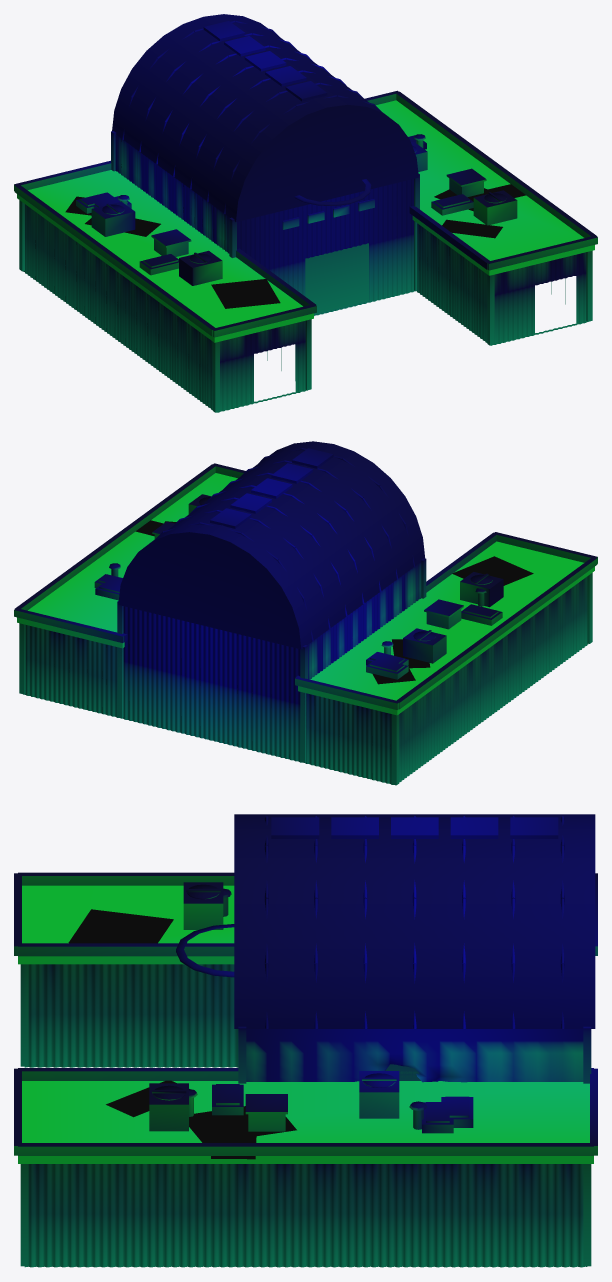
File: meethall_damaged.glb
3 renders of one model, top to bottom at view 1: azimuth 30°, elevation 25°; view 2: azimuth 150°, elevation 25°; view 3: azimuth 270°, elevation 25°, orthographic. The views are drawn at different scales.
Parts seen in each view (by area): view 1: lod0; view 2: lod0; view 3: lod0.
Boxes of the visible parts, bbox=[...] form: lod0: bbox=[14, 14, 597, 412]; lod0: bbox=[14, 441, 597, 785]; lod0: bbox=[14, 814, 597, 1267].
Size of what is drawn, in the model's own units: 24.7 by 12.73 by 22.
